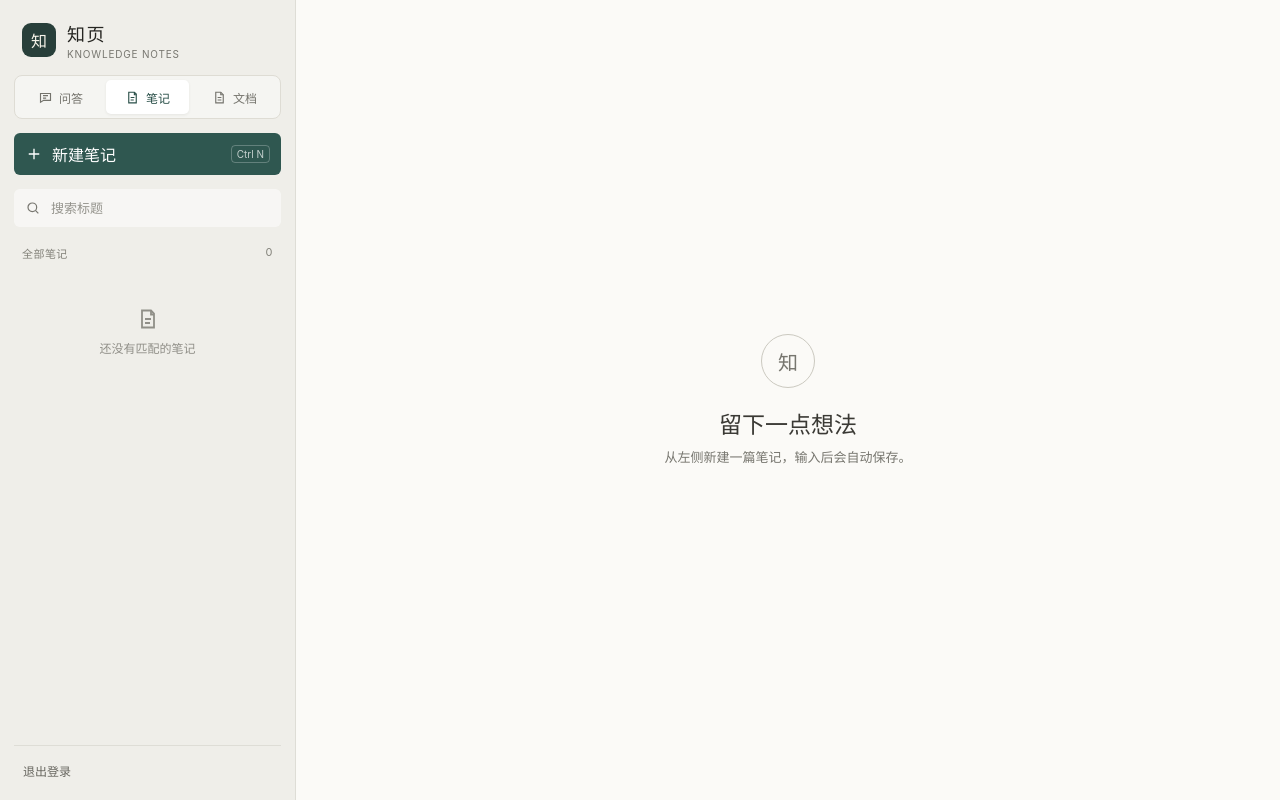
it: 笔记工作区 › 普通问答逐块显示回答并在完成后展示来源
Step 1. Click the button "问答" → (60, 97), box [19,80,102,114]
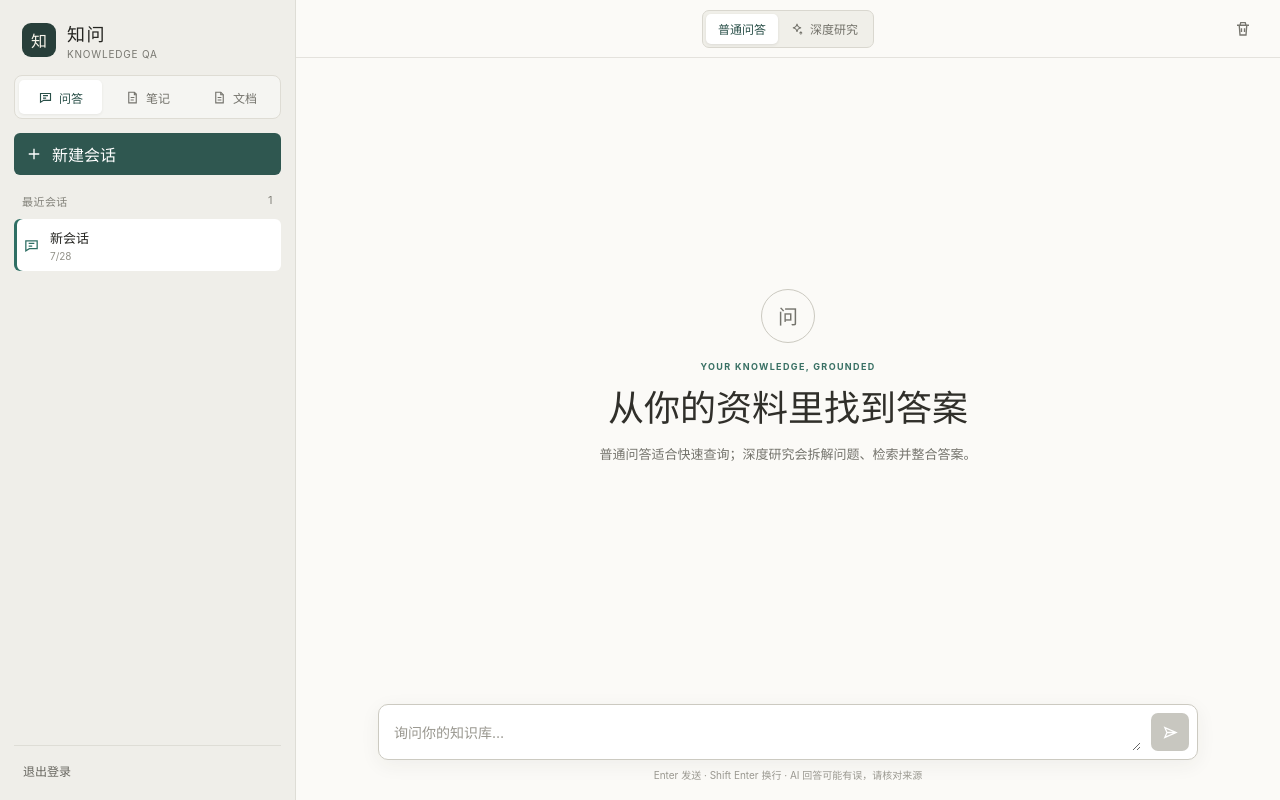
Now the text box named "输入问题" is enabled
Step 2. Type "解释一下 RAG" into the text box named "输入问题" → (768, 733), box [394,715,1141,751]
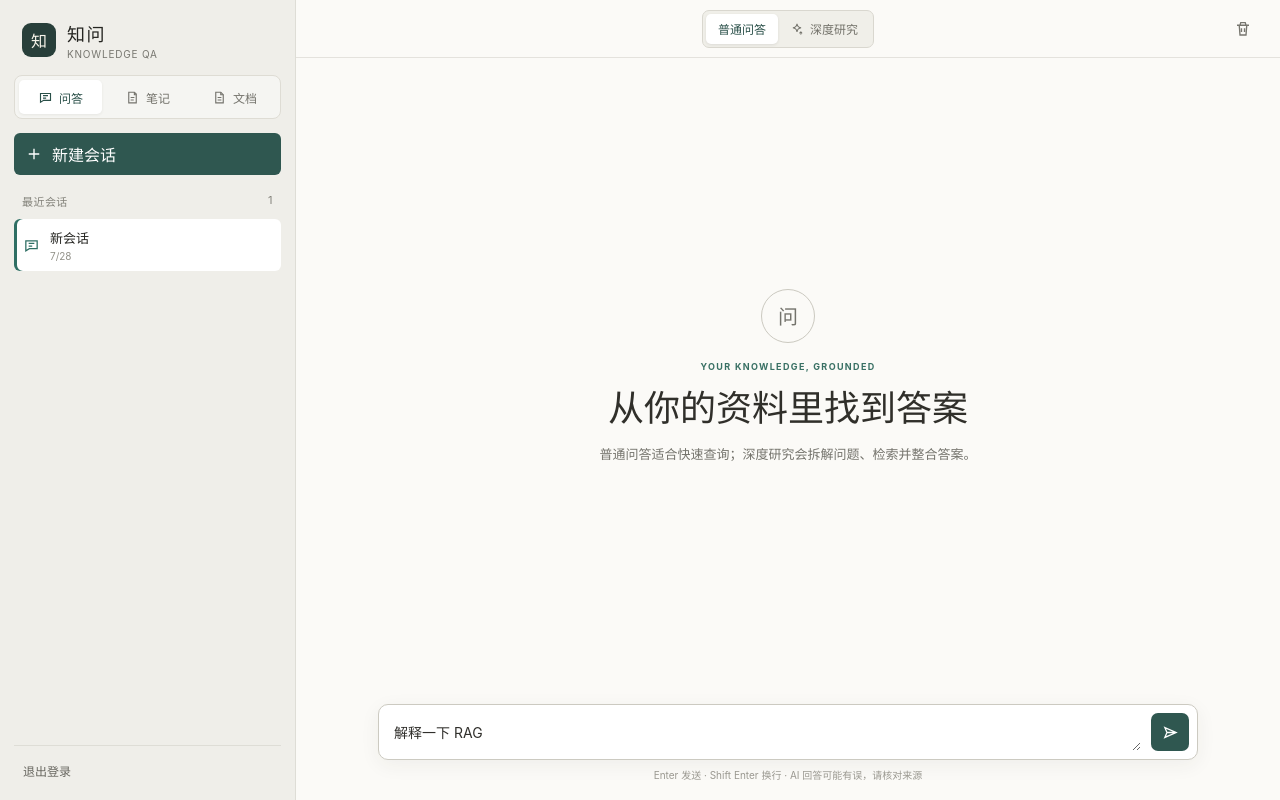
Step 3. Click the button named "发送问题" → (1170, 732), box [1151,713,1189,751]
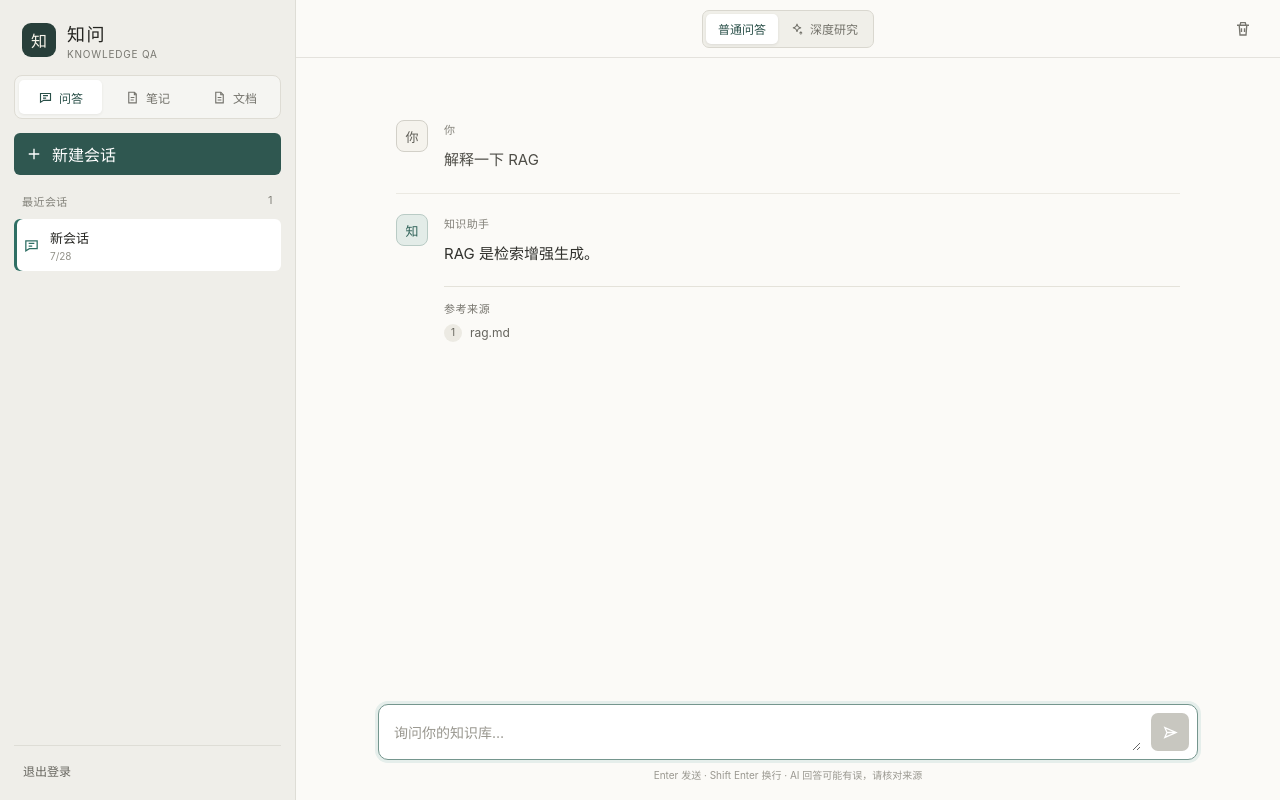
Now the text "RAG 是检索增强生成。" is shown, box [444,244,599,263]
Now the list item "rag.md" is shown, box [470,325,510,340]
